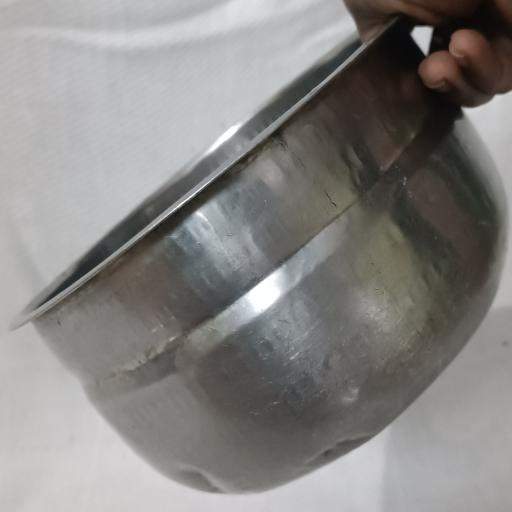vessel: (14, 21, 506, 492)
